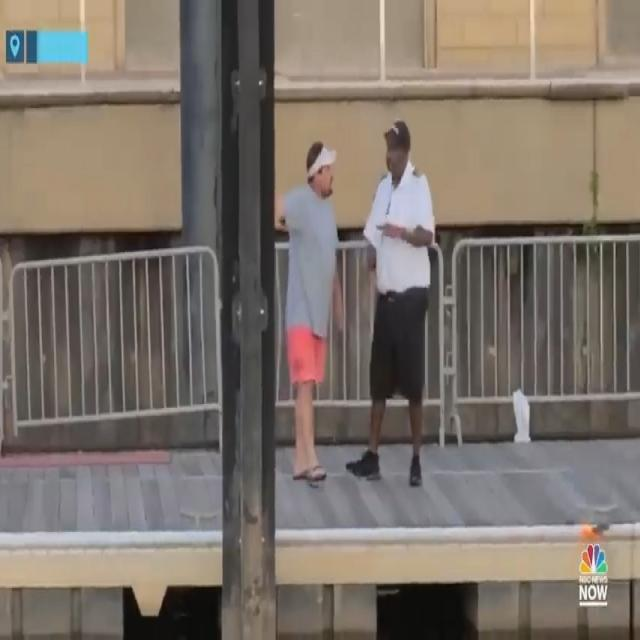non-fight: (273, 113, 436, 493)
